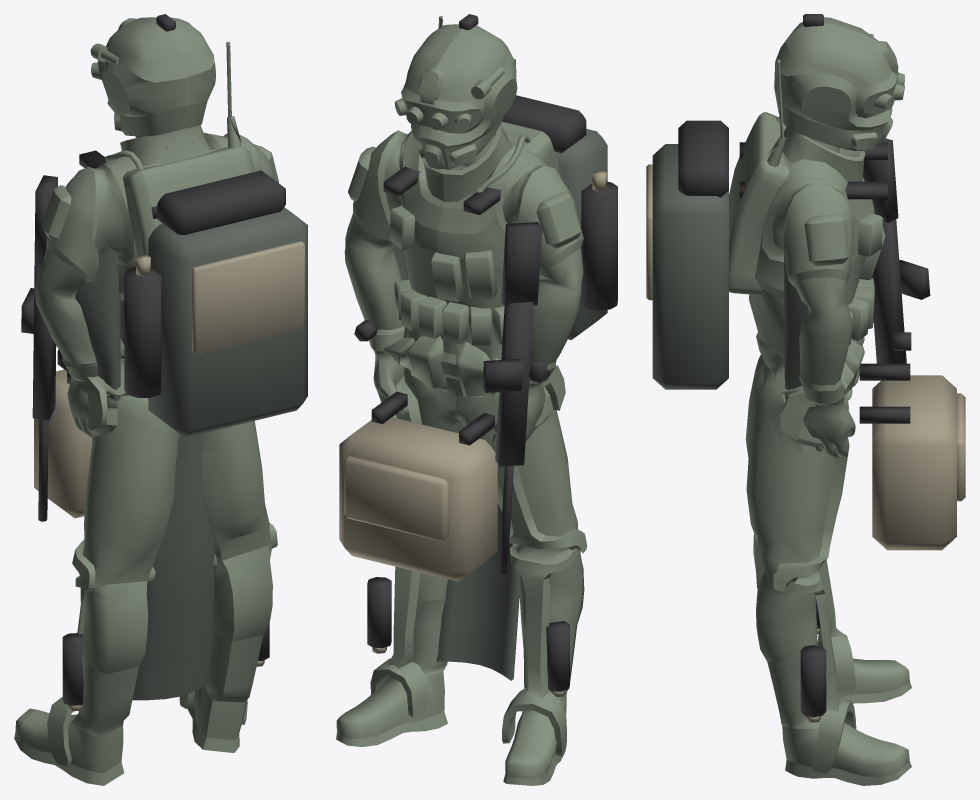
The model's file is AirborneJumper.fbx.
The picture shows the model from 3 angles, left to right: view 1: azimuth 30°, elevation 25°; view 2: azimuth 150°, elevation 25°; view 3: azimuth 270°, elevation 25°; orthographic projection. The views are drawn at different scales.
Parts seen in each view (by area): view 1: AirborneJumper; view 2: AirborneJumper; view 3: AirborneJumper.
Boxes of the visible parts, x1,y1,x2,y2 form: AirborneJumper: [14, 14, 307, 785]; AirborneJumper: [336, 14, 617, 785]; AirborneJumper: [646, 14, 965, 785].
Size of the model in its own units: 63.87 by 190 by 75.27.
